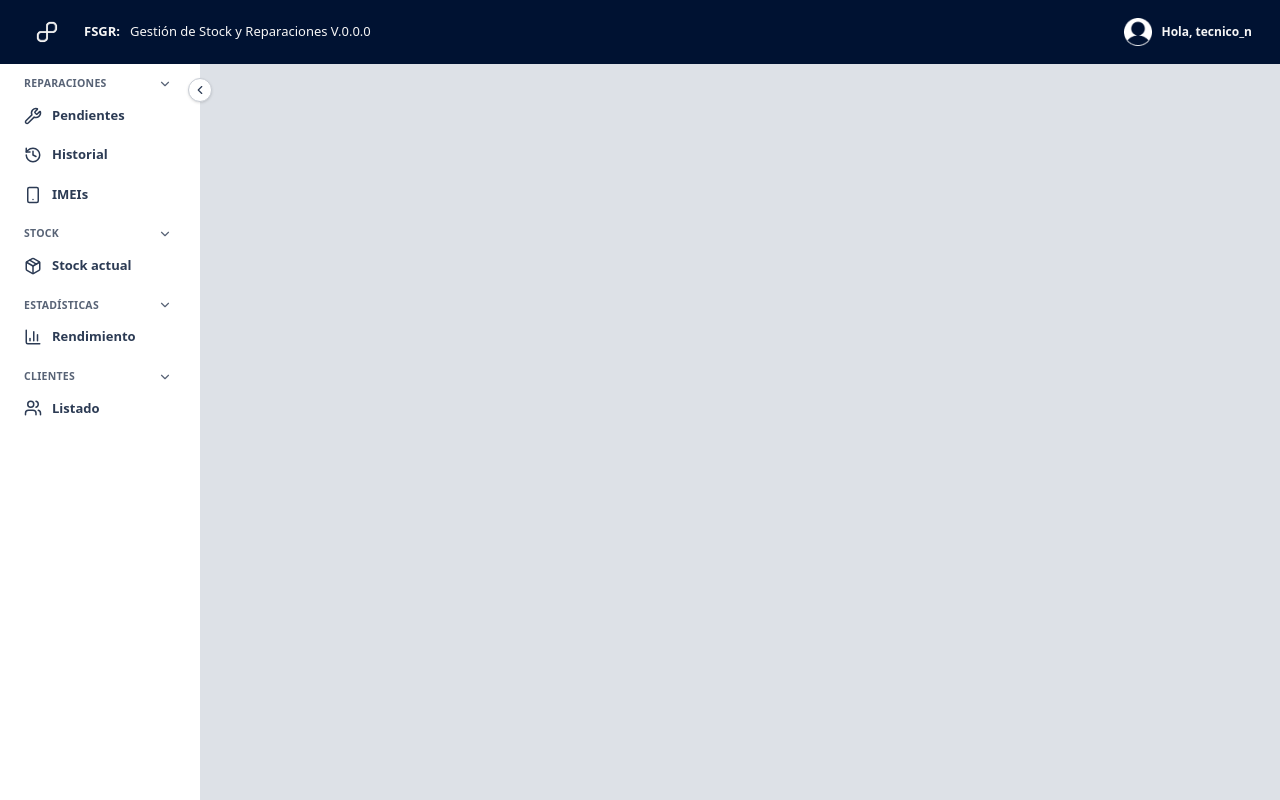
Test: barra superior (calco de MainView) › el menú de usuario de un técnico no tiene opciones de admin y "Descargar CSV" va deshabilitado
The width and height of the screenshot is (1280, 800).
Click the button "Hola, tecnico_n" at (1188, 32), box [1116, 14, 1260, 50]
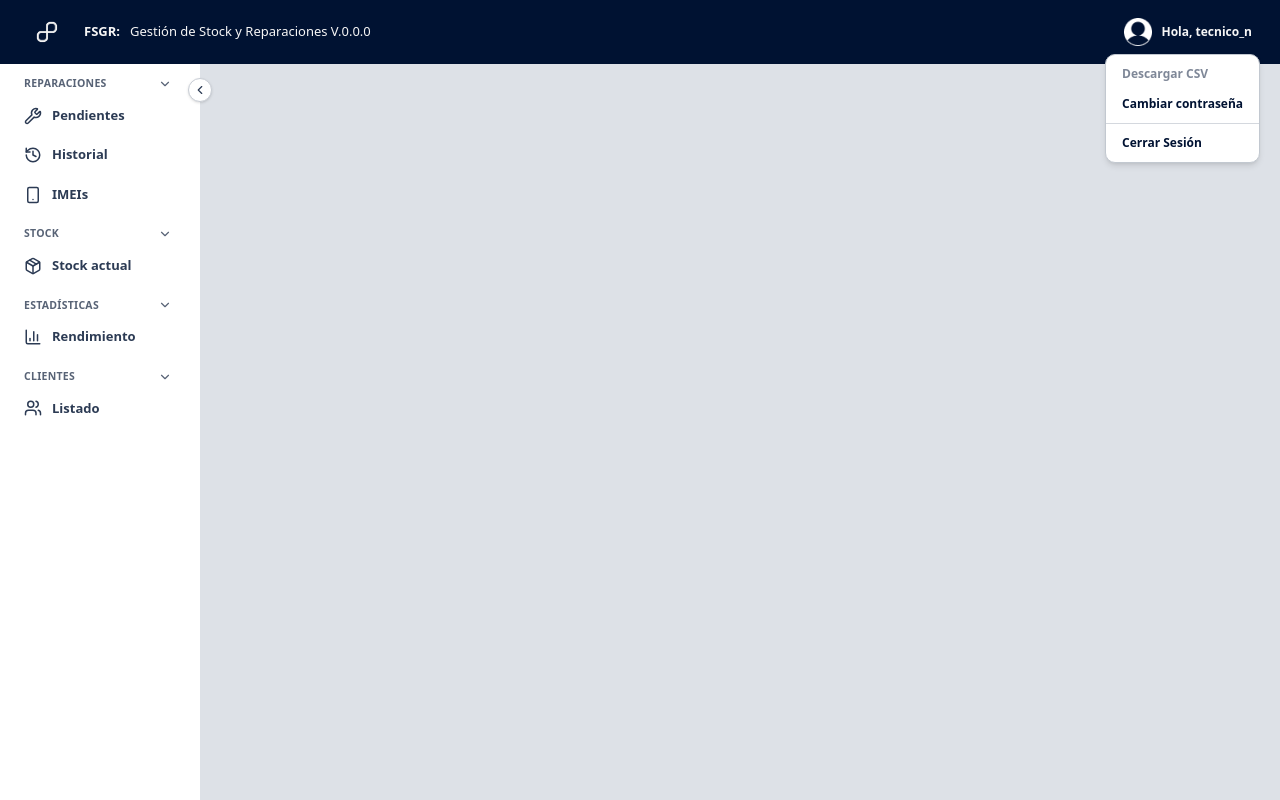
Expected: the menu item "Cambiar contraseña" is shown, [1122, 95, 1243, 112]
Expected: the menu item "Cerrar Sesión" is shown, [1122, 134, 1202, 151]
